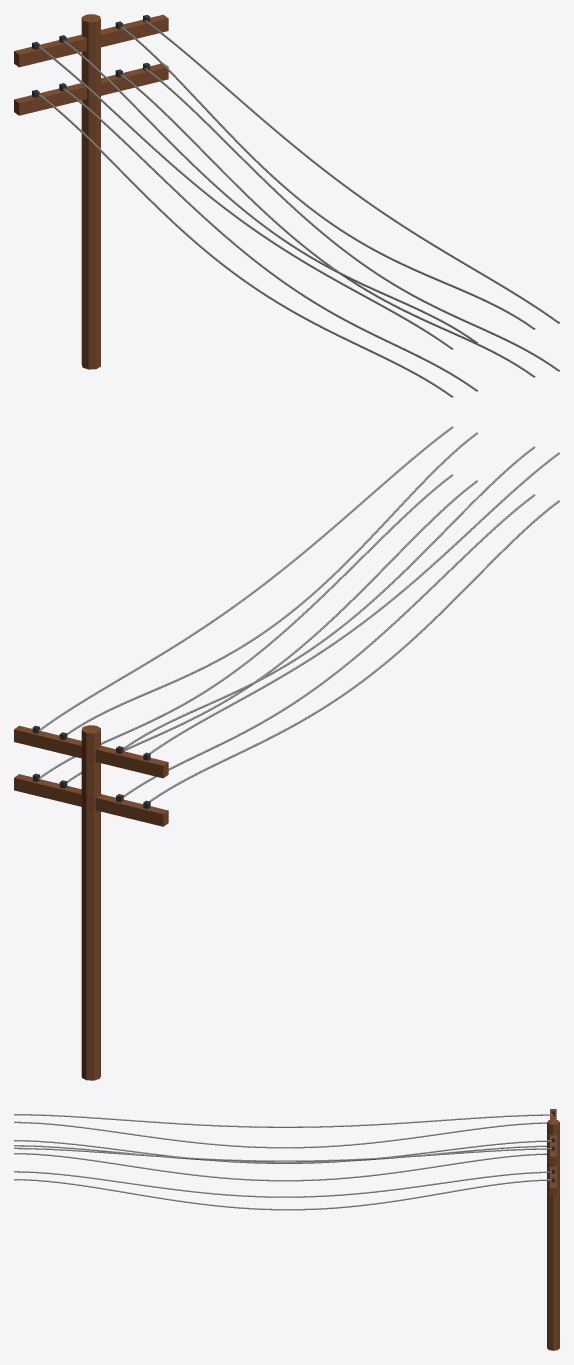
Rendered from poste_energia.fbx.
3 renders of one model, top to bottom at view 1: azimuth 30°, elevation 25°; view 2: azimuth 150°, elevation 25°; view 3: azimuth 270°, elevation 25°, orthographic. The views are drawn at different scales.
Parts seen in each view (by area): view 1: poste_energia; view 2: poste_energia; view 3: poste_energia.
Boxes of the visible parts, x1,y1,x2,y2 form: poste_energia: [14, 14, 559, 397]; poste_energia: [14, 426, 559, 1080]; poste_energia: [14, 1109, 559, 1350].
Size of the model in its own units: 81.14 by 180 by 394.
